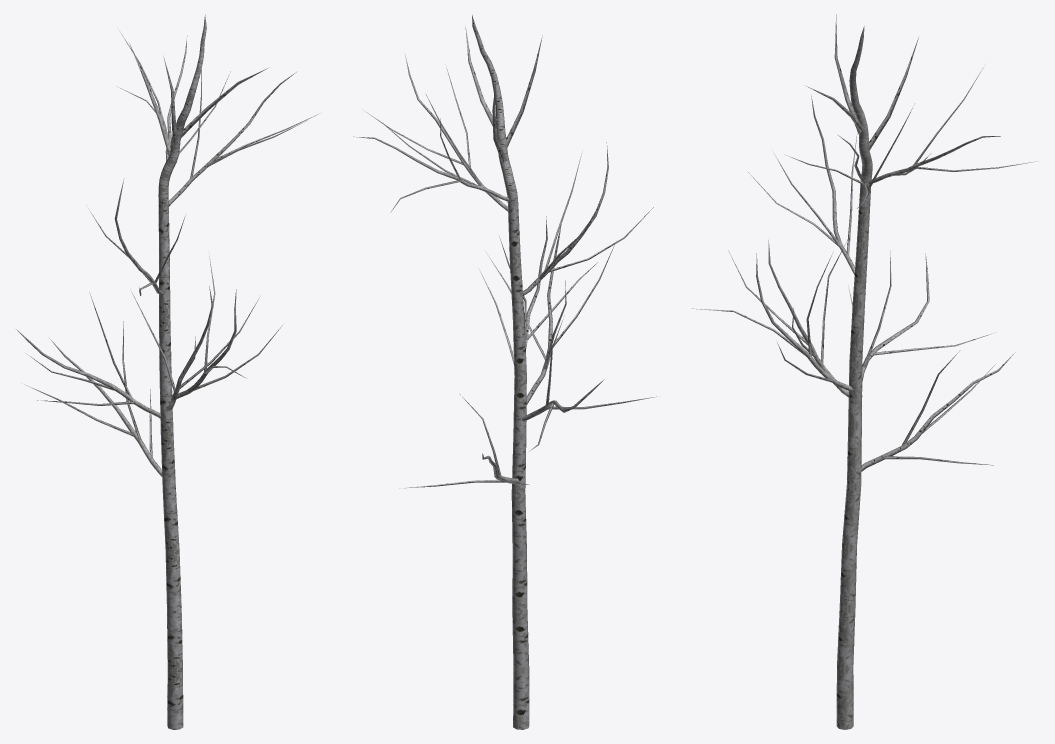
The model's file is birch-mature.glb.
3 renders of one model, left to right at view 1: azimuth 30°, elevation 25°; view 2: azimuth 150°, elevation 25°; view 3: azimuth 270°, elevation 25°, orthographic. The views are drawn at different scales.
Parts seen in each view (by area): view 1: bark; view 2: bark; view 3: bark.
Boxes of the visible parts, x1=… form: bark: x1=16, y1=14, x2=320, y2=729; bark: x1=353, y1=15, x2=656, y2=729; bark: x1=692, y1=14, x2=1036, y2=729.
Size of the model in its own units: 3.99 by 9.09 by 4.02.
1 material, 1 textured.
